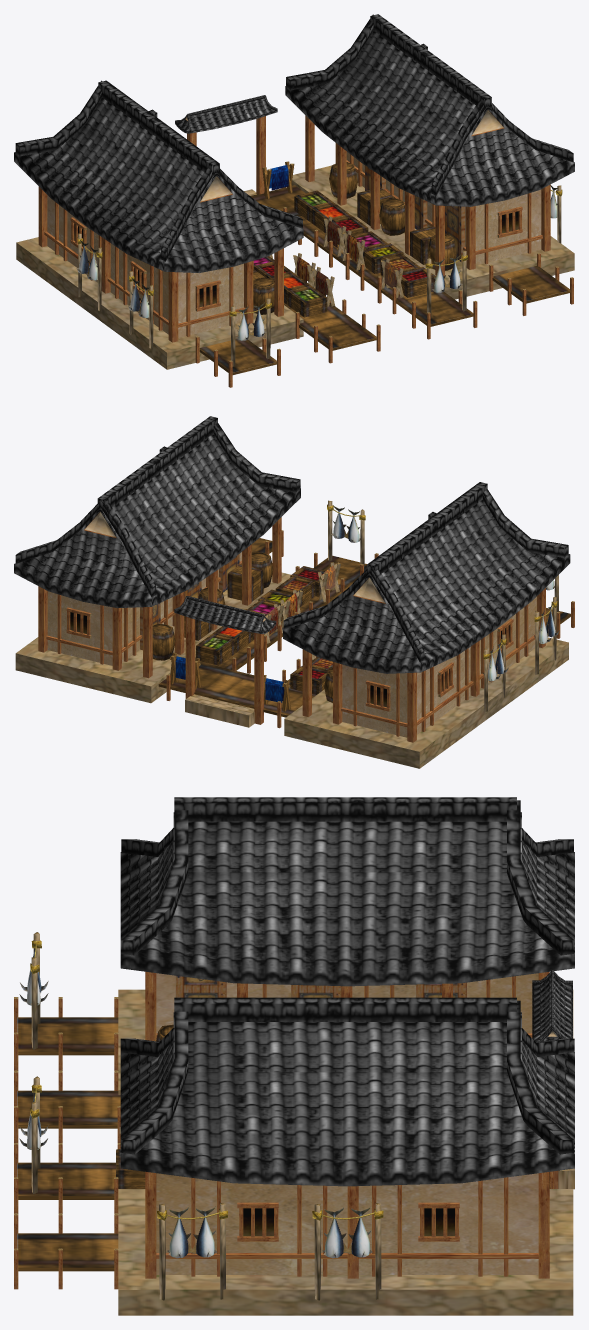
File: dock.dae
3 views of the same model, one above another, from view 1: azimuth 30°, elevation 25°; view 2: azimuth 150°, elevation 25°; view 3: azimuth 270°, elevation 25° (orthographic). The views are drawn at different scales.
Parts seen in each view (by area): view 1: dock; view 2: dock; view 3: dock.
Part boxes in pixels (x1=…): dock: x1=14, y1=14, x2=574, y2=387; dock: x1=14, y1=416, x2=574, y2=768; dock: x1=14, y1=797, x2=574, y2=1315.
Size of the model in its own units: 31.71 by 23.95 by 12.47.
